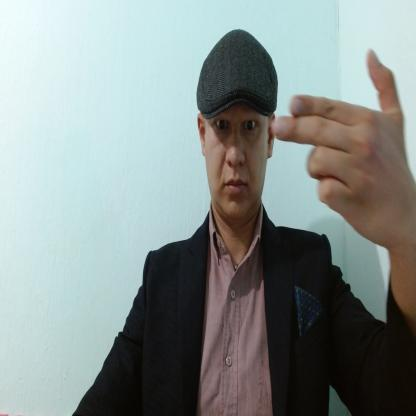H: (272, 48, 408, 248)
